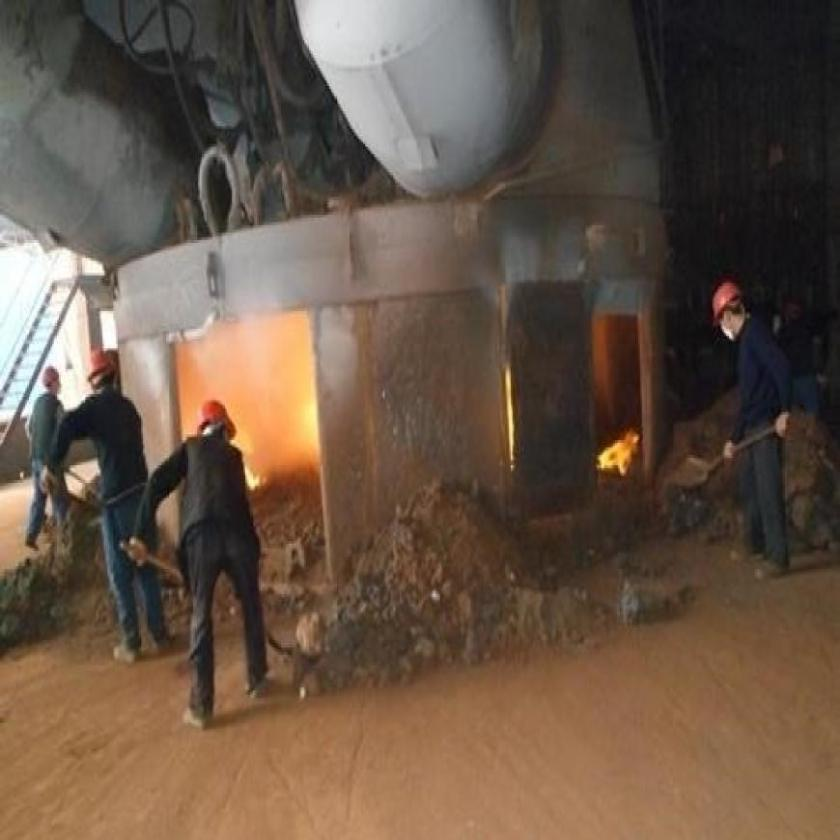Con_casco: (198, 401, 244, 461), (709, 274, 746, 347), (84, 343, 124, 400), (40, 368, 64, 406)
